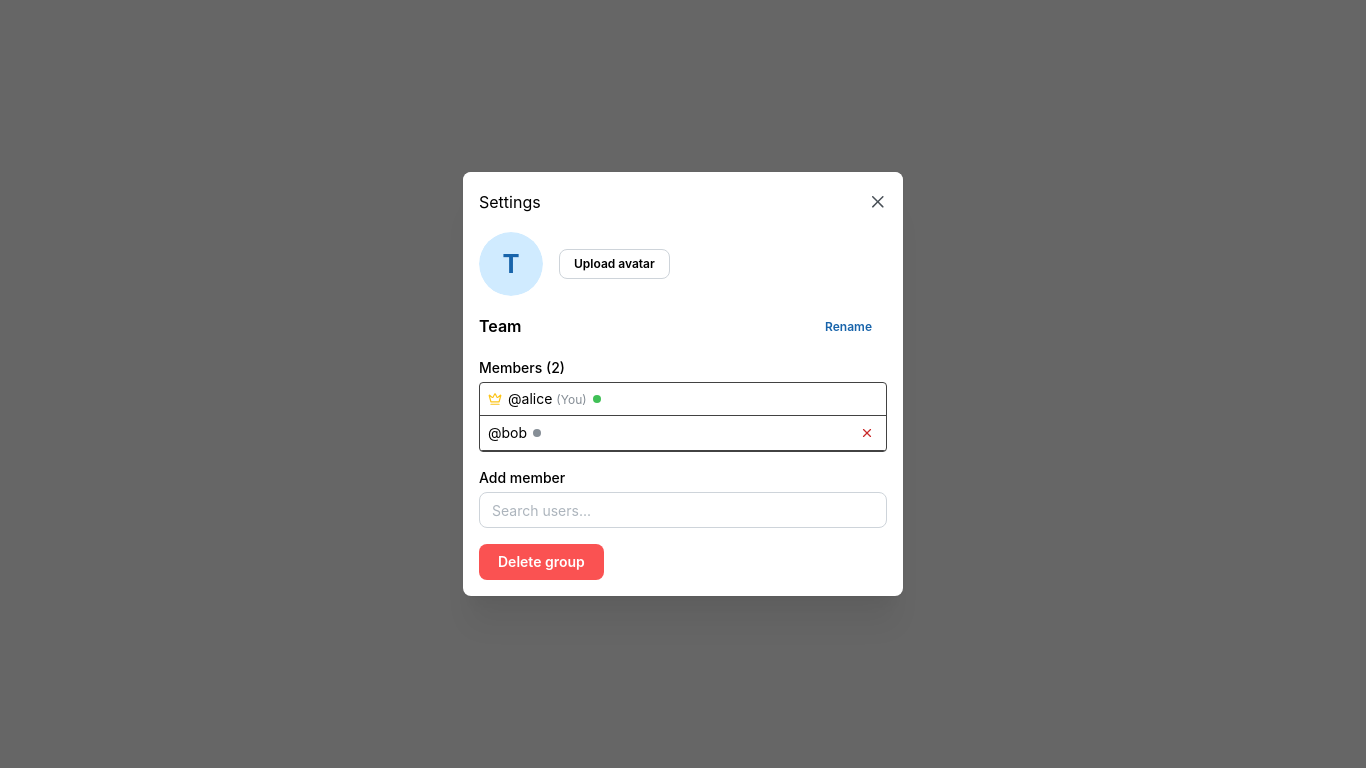
group settings modal › does not offer bots as group members
The width and height of the screenshot is (1366, 768).
Type "he" into the field with placeholder "Search users..." at [683, 510], box x1=479 y1=492 x2=887 y2=528
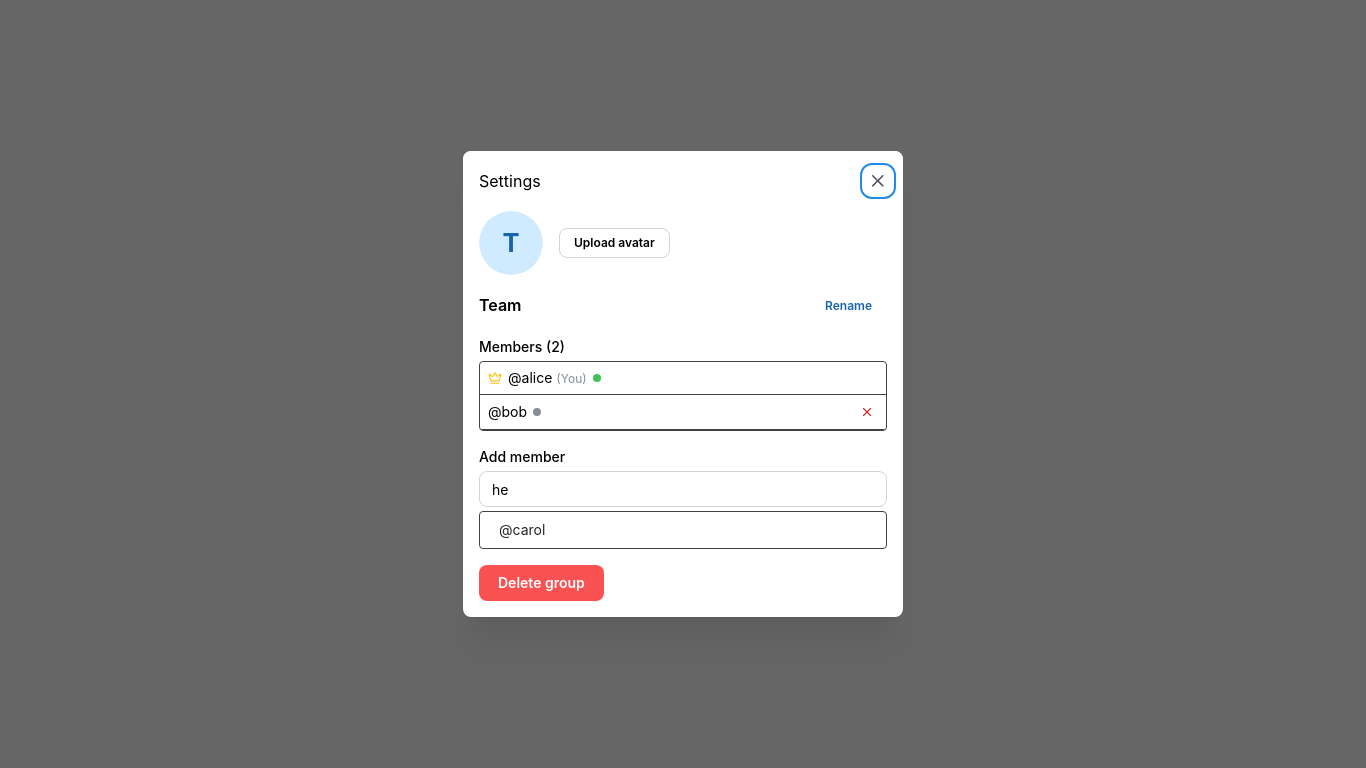
Check: the text "@carol" is shown, box x1=499 y1=520 x2=545 y2=541
